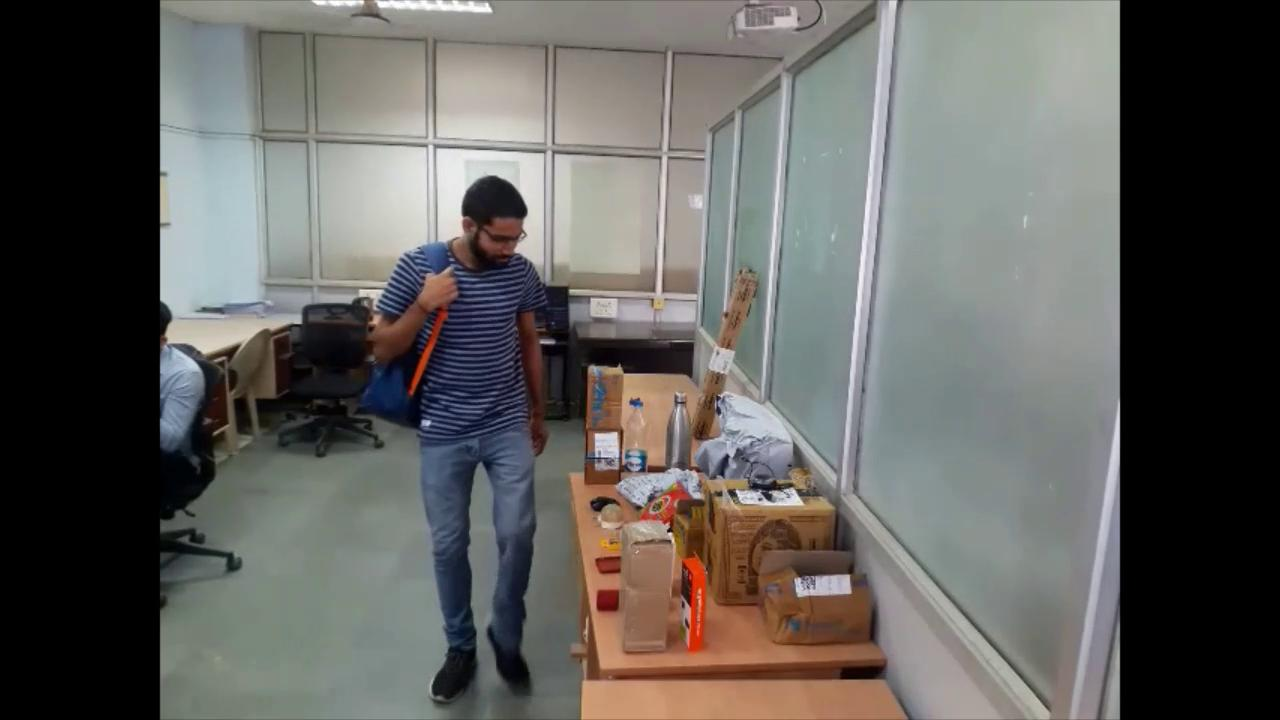Normal: (362, 171, 560, 712)
